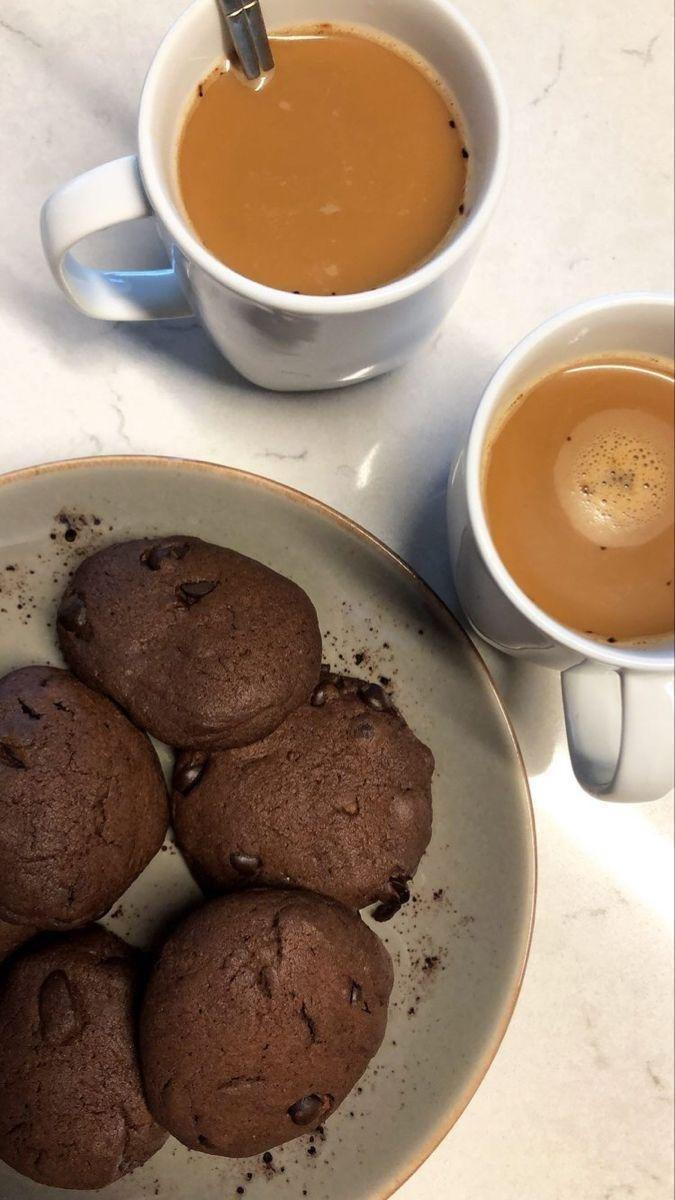cup-handle: (39, 0, 509, 394), (443, 288, 674, 801)
